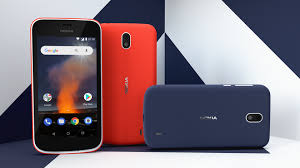nokia: (28, 15, 108, 156), (139, 81, 272, 151)
